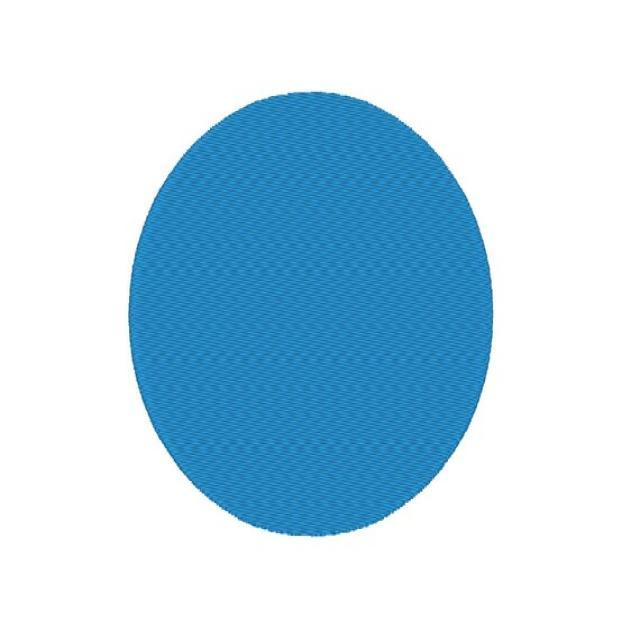Circle: (123, 87, 496, 542)
